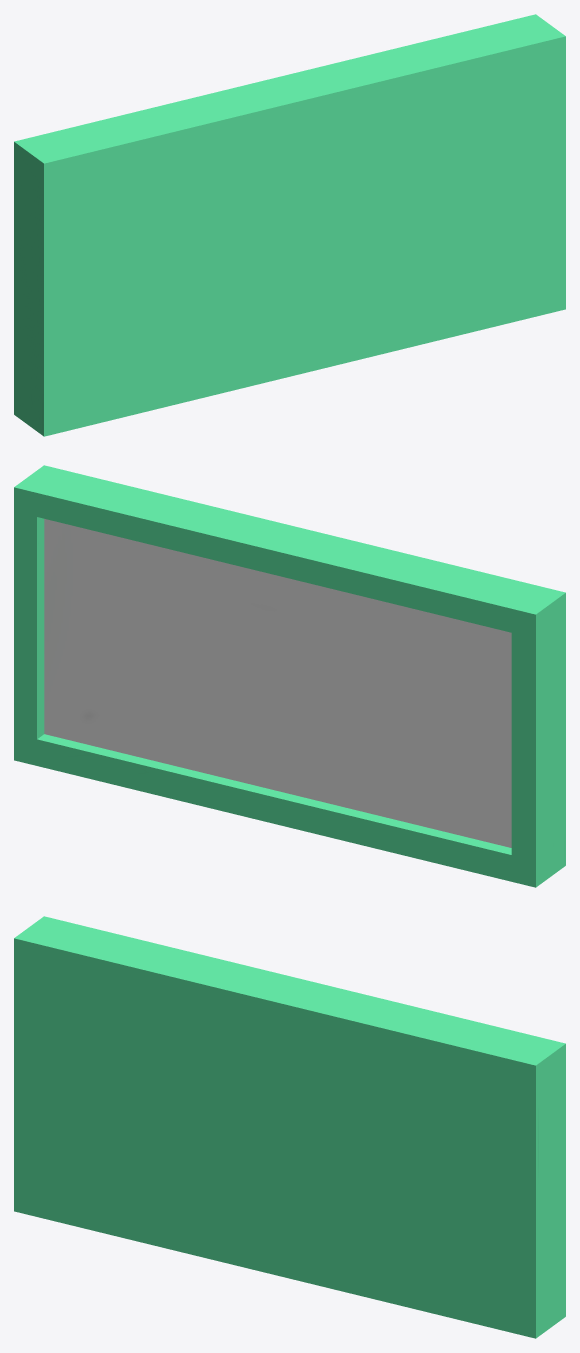
File: ScoreBoard.fbx
3 views of the same model, one above another, from view 1: azimuth 30°, elevation 25°; view 2: azimuth 150°, elevation 25°; view 3: azimuth 330°, elevation 25° (orthographic).
Parts seen in each view (by area): view 1: Cube; view 2: Cube; view 3: Cube.
Boxes of the visible parts, x1,y1,x2,y2 form: Cube: (14,14,565,436); Cube: (14,465,565,887); Cube: (14,916,565,1338).
Size of the model in its own units: 150 by 75 by 15.
1 material, 1 textured.
